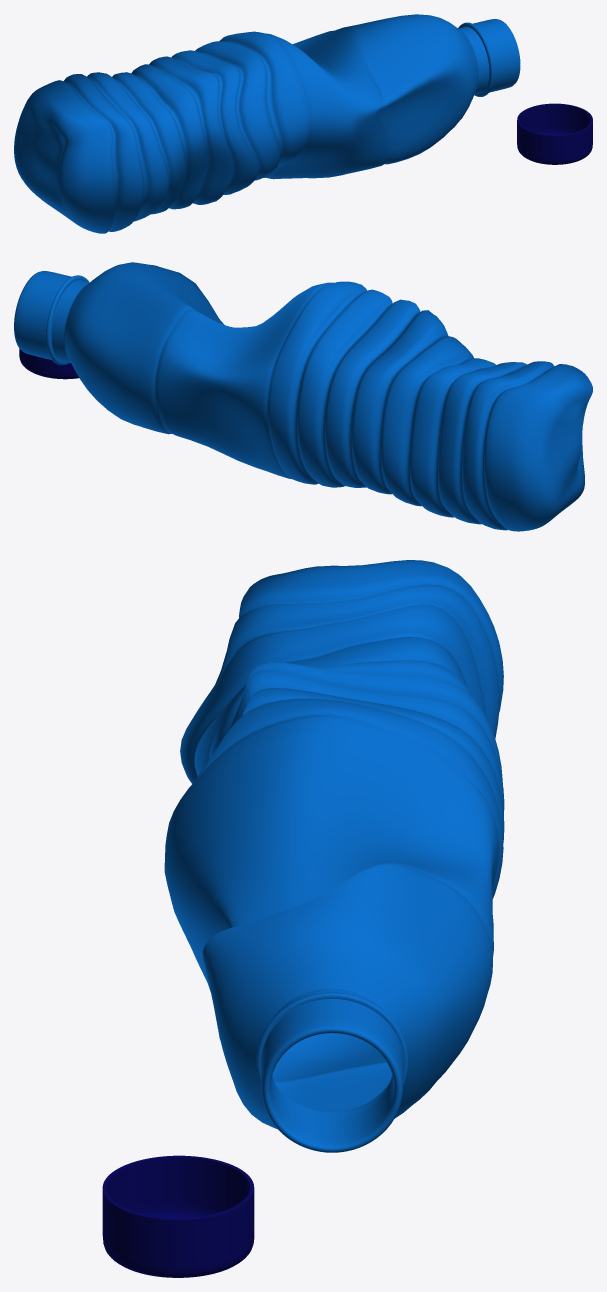
Rendered from botol.fbx.
3 views of the same model, one above another, from view 1: azimuth 30°, elevation 25°; view 2: azimuth 150°, elevation 25°; view 3: azimuth 270°, elevation 25° (orthographic). The views are drawn at different scales.
Visible parts, largest first — view 1: Beat_Water_Bottle, Bottle_Cap; view 2: Beat_Water_Bottle, Bottle_Cap; view 3: Beat_Water_Bottle, Bottle_Cap.
Boxes of the visible parts, x1,y1,x2,y2 form: Beat_Water_Bottle: [14, 14, 520, 233]; Bottle_Cap: [517, 103, 592, 164]; Beat_Water_Bottle: [14, 262, 592, 531]; Bottle_Cap: [19, 348, 78, 379]; Beat_Water_Bottle: [164, 560, 504, 1152]; Bottle_Cap: [102, 1155, 254, 1277].
Bounding box in the file's own units: 14.22 × 4.09 × 4.92.
